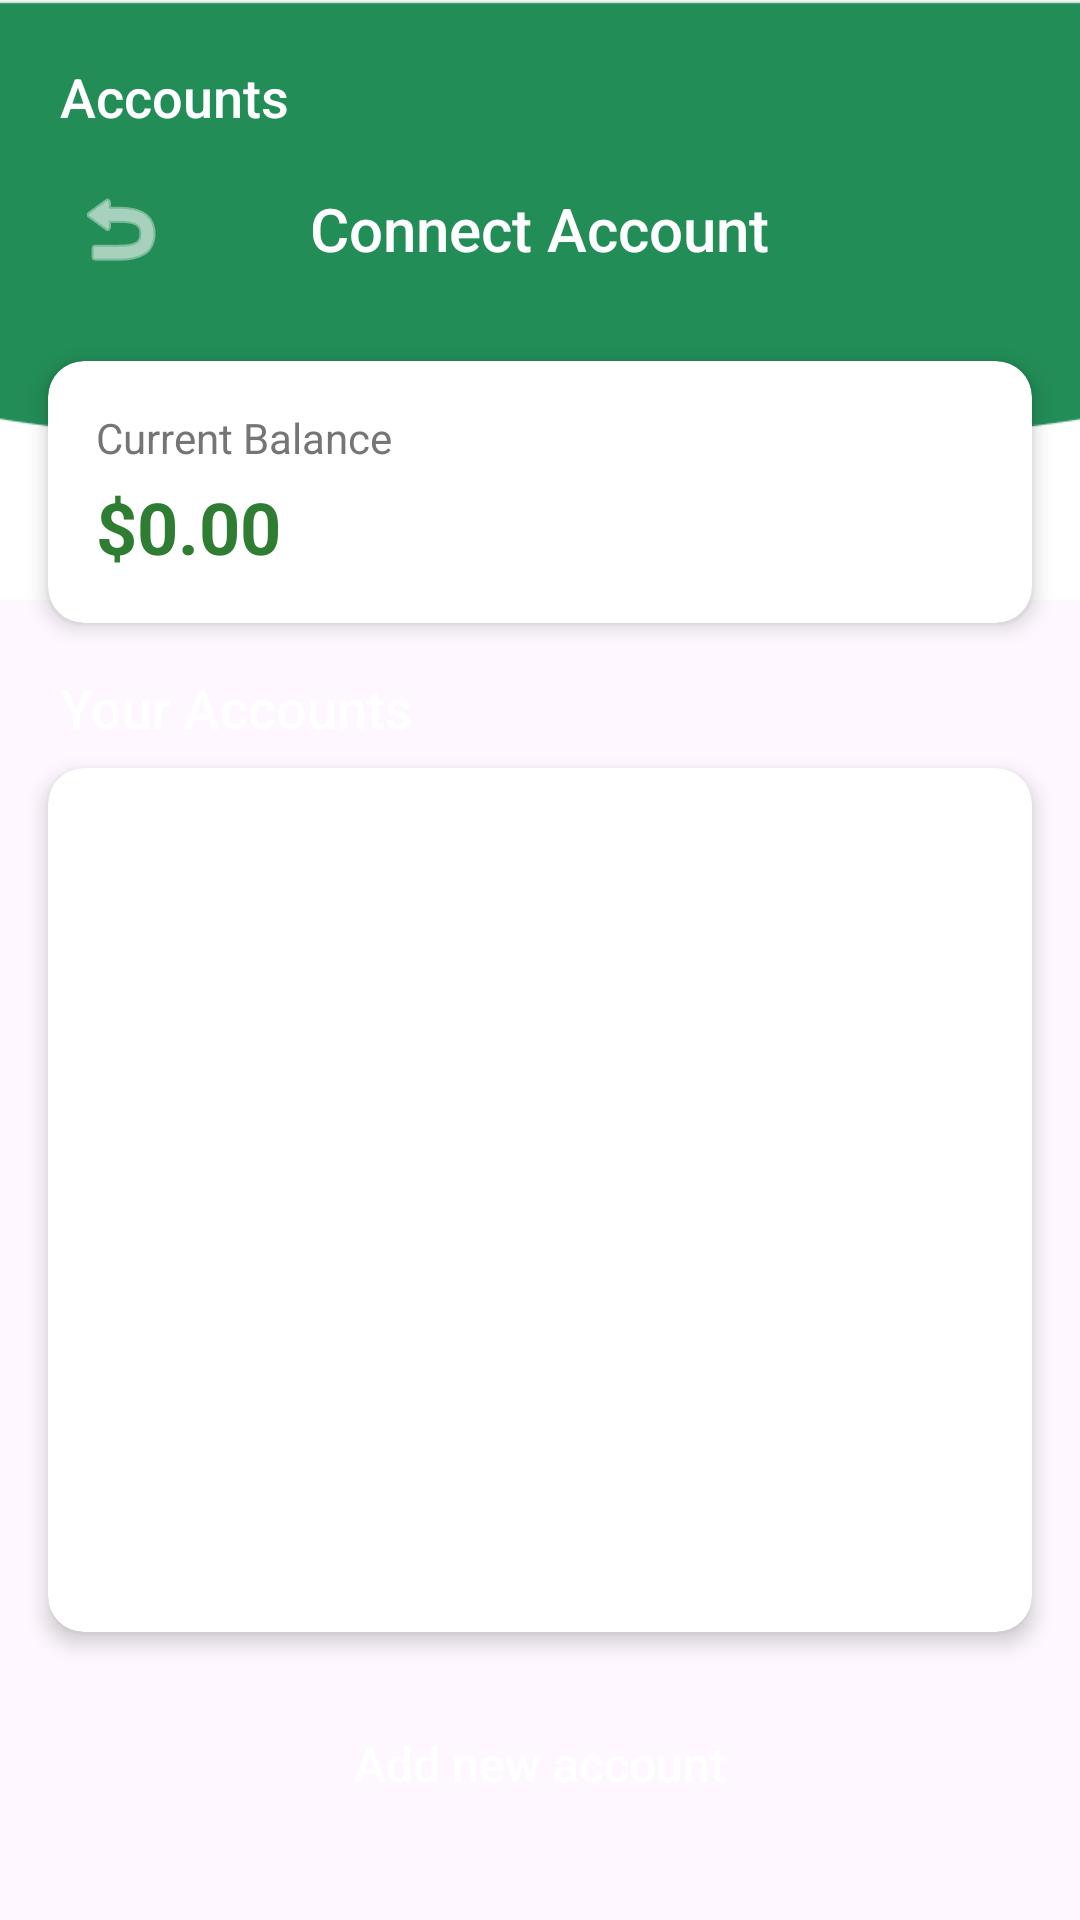

Point at icon controls on the screen. Image size 1080w x 1920h, points as (x=x, y=y).
revert: (x=121, y=229)
